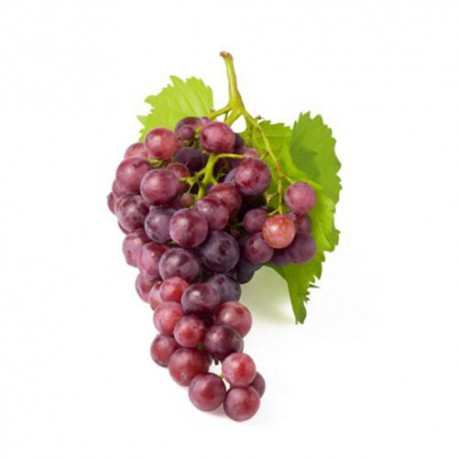Red Grapes: (93, 83, 337, 434)
